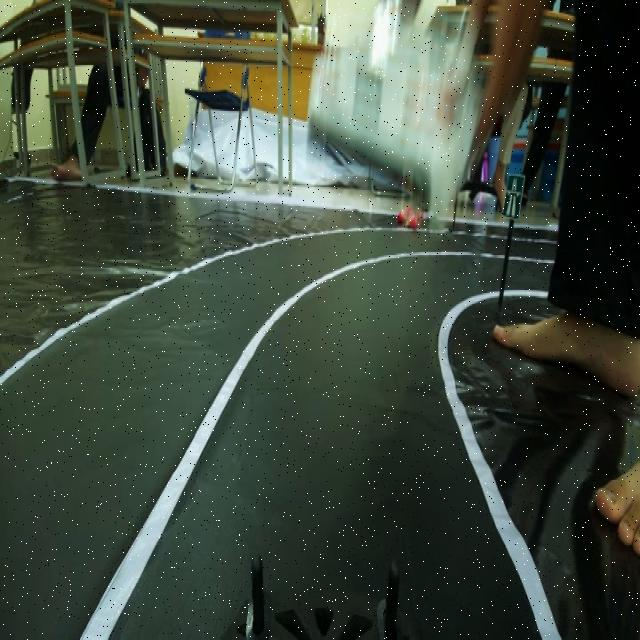highway_entry: (499, 172, 526, 227)
